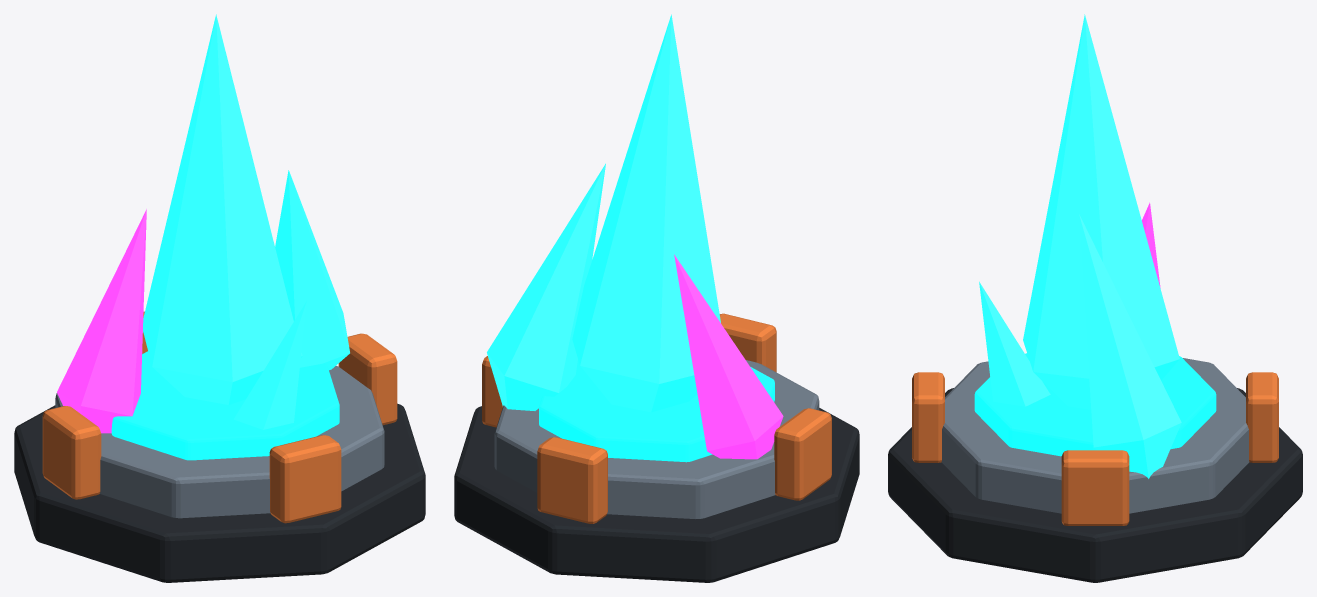
File: crystal-node.fbx
3 renders of one model, left to right at view 1: azimuth 30°, elevation 25°; view 2: azimuth 150°, elevation 25°; view 3: azimuth 270°, elevation 25°, orthographic. The views are drawn at different scales.
Parts seen in each view (by area): view 1: MainCrystal, BaseLower, BaseUpper, EnergySocket, SideCrystalB, SideCrystalA, Clamp_4.71, Clamp_3.14, SideCrystalC, Clamp_0; view 2: MainCrystal, BaseLower, BaseUpper, SideCrystalA, SideCrystalB, EnergySocket, Clamp_1.57, Clamp_3.14, Clamp_4.71, Clamp_0; view 3: BaseLower, MainCrystal, BaseUpper, SideCrystalA, EnergySocket, Clamp_0, SideCrystalC, Clamp_1.57, Clamp_4.71.
Part boxes in pixels (<box>): MainCrystal: <box>143,14,302,404</box>; BaseLower: <box>14,403,425,582</box>; BaseUpper: <box>55,353,384,518</box>; EnergySocket: <box>111,351,339,460</box>; SideCrystalB: <box>57,209,146,433</box>; SideCrystalA: <box>275,170,349,370</box>; Clamp_4.71: <box>269,435,341,523</box>; Clamp_3.14: <box>42,406,101,499</box>; SideCrystalC: <box>233,301,306,429</box>; Clamp_0: <box>338,333,397,425</box>; MainCrystal: <box>572,14,720,412</box>; BaseLower: <box>454,406,859,582</box>; BaseUpper: <box>494,360,819,518</box>; SideCrystalA: <box>487,163,605,410</box>; SideCrystalB: <box>674,254,783,459</box>; EnergySocket: <box>539,359,774,462</box>; Clamp_1.57: <box>537,437,607,523</box>; Clamp_3.14: <box>774,408,831,500</box>; Clamp_4.71: <box>719,313,776,372</box>; Clamp_0: <box>482,356,502,427</box>; BaseLower: <box>888,388,1302,582</box>; MainCrystal: <box>1023,14,1179,409</box>; BaseUpper: <box>941,358,1249,513</box>; SideCrystalA: <box>1079,214,1181,478</box>; EnergySocket: <box>974,353,1216,456</box>; Clamp_0: <box>1061,450,1129,525</box>; SideCrystalC: <box>979,281,1050,406</box>; Clamp_1.57: <box>1246,372,1278,462</box>; Clamp_4.71: <box>912,372,944,462</box>.
Bounding box in the file's own units: 1.2 × 1.52 × 1.2.
